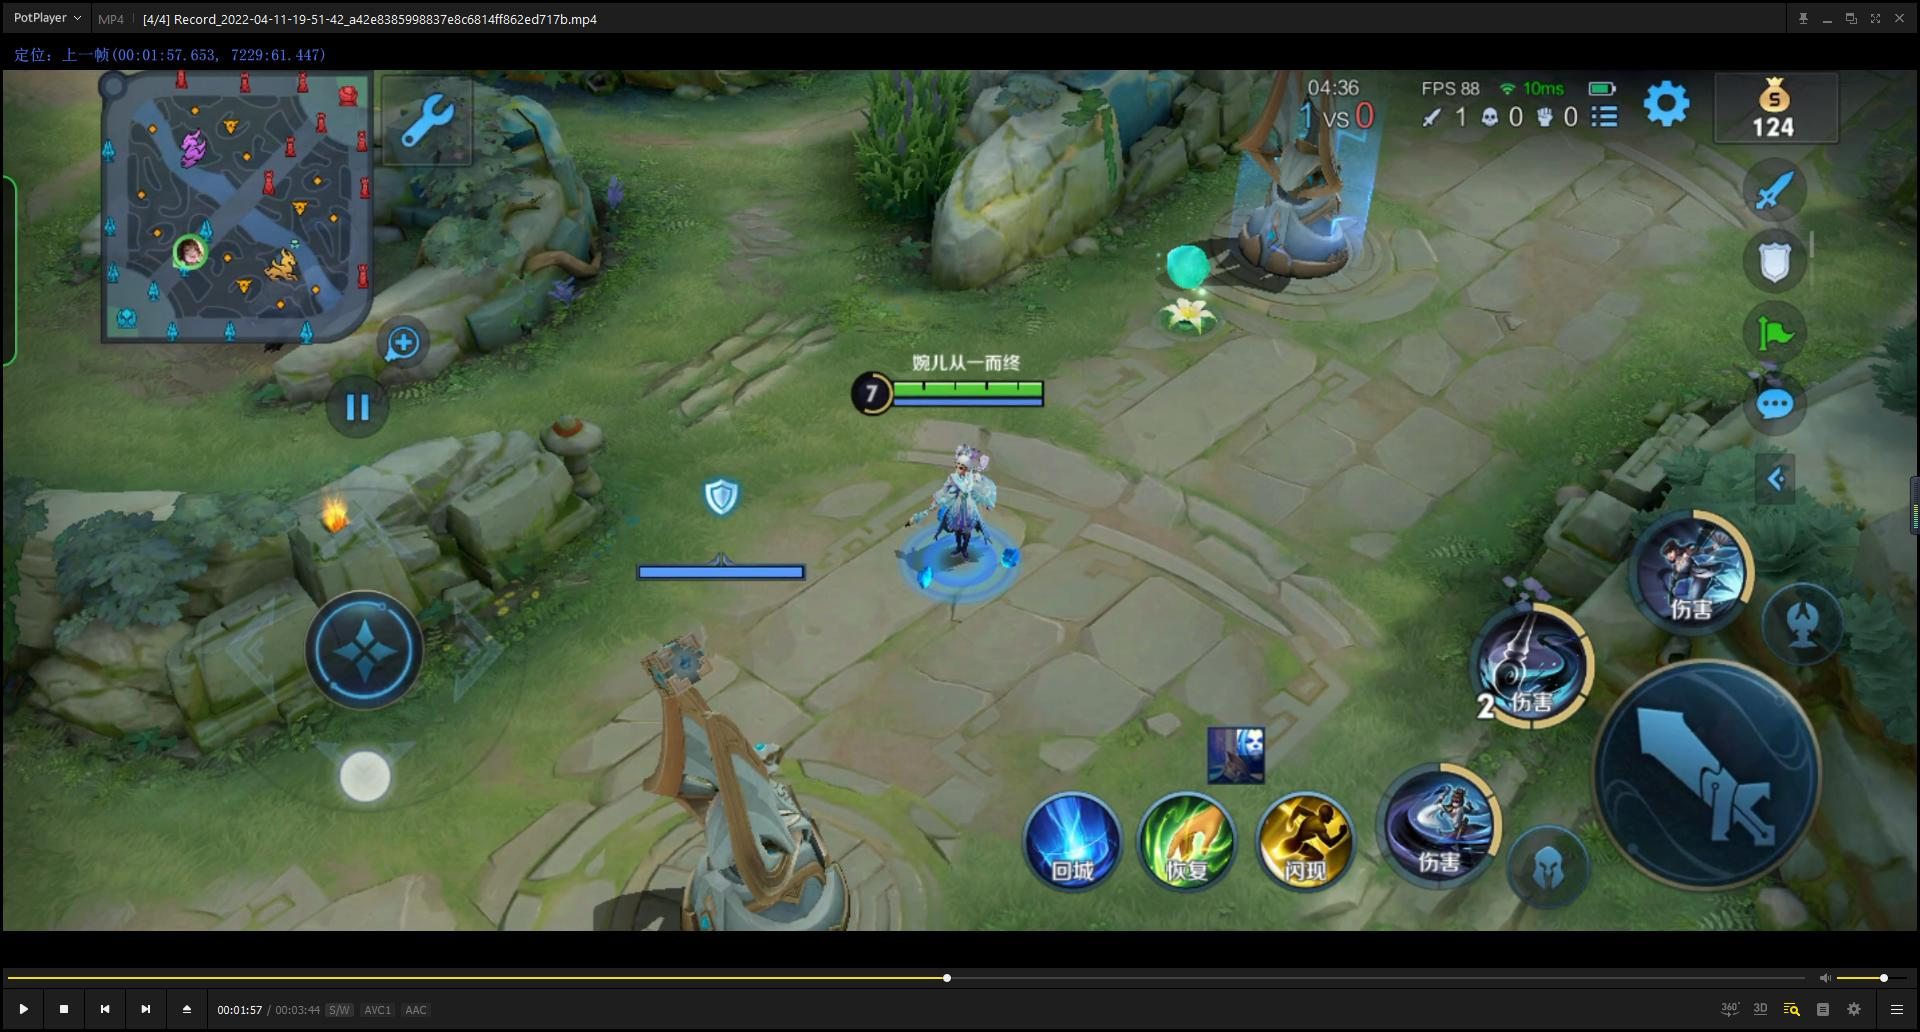Hero: (875, 431, 1033, 596)
Tower: (581, 511, 903, 934), (1194, 75, 1408, 308)
